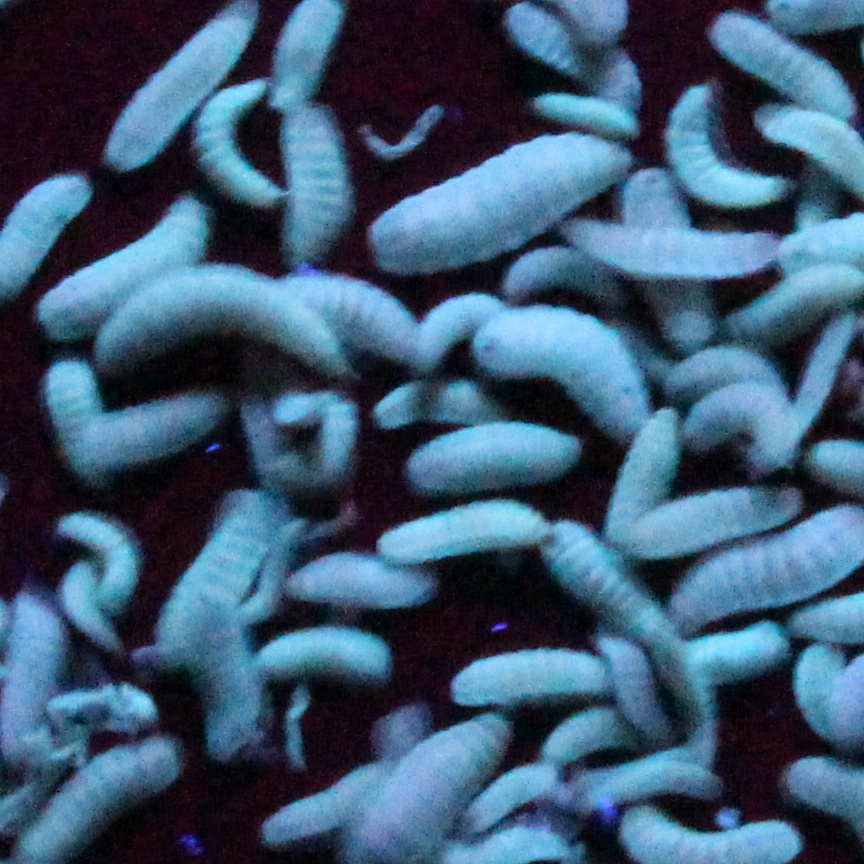larve: (389, 133, 603, 264), (140, 269, 323, 377), (489, 311, 658, 425), (118, 11, 230, 162), (57, 203, 191, 328), (160, 501, 269, 648), (42, 740, 168, 853), (558, 517, 665, 629), (424, 415, 577, 487), (640, 178, 707, 342), (684, 94, 786, 196), (728, 28, 835, 125), (585, 229, 773, 280), (775, 331, 850, 446), (101, 391, 207, 470), (535, 11, 630, 94), (10, 593, 59, 747), (736, 280, 860, 338), (703, 389, 789, 472), (595, 750, 711, 811), (640, 505, 789, 552), (395, 513, 548, 558), (201, 613, 256, 738), (269, 768, 385, 827), (206, 84, 274, 184), (325, 274, 418, 345), (293, 113, 337, 252), (460, 652, 595, 695), (262, 632, 381, 680), (381, 370, 493, 417), (465, 770, 546, 831), (624, 425, 667, 538), (75, 521, 138, 598), (679, 352, 775, 401), (305, 558, 418, 599), (603, 640, 652, 731), (49, 367, 94, 463), (687, 629, 797, 668), (240, 397, 283, 495), (547, 86, 630, 135), (311, 409, 365, 482), (548, 719, 626, 768), (63, 565, 110, 646), (418, 291, 469, 364), (801, 644, 836, 738), (503, 268, 595, 289)
